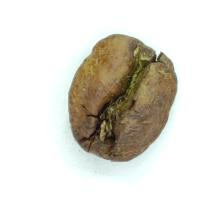NG: (88, 44, 167, 153)
